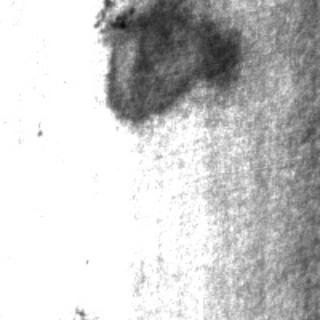patches: (104, 0, 238, 118)
